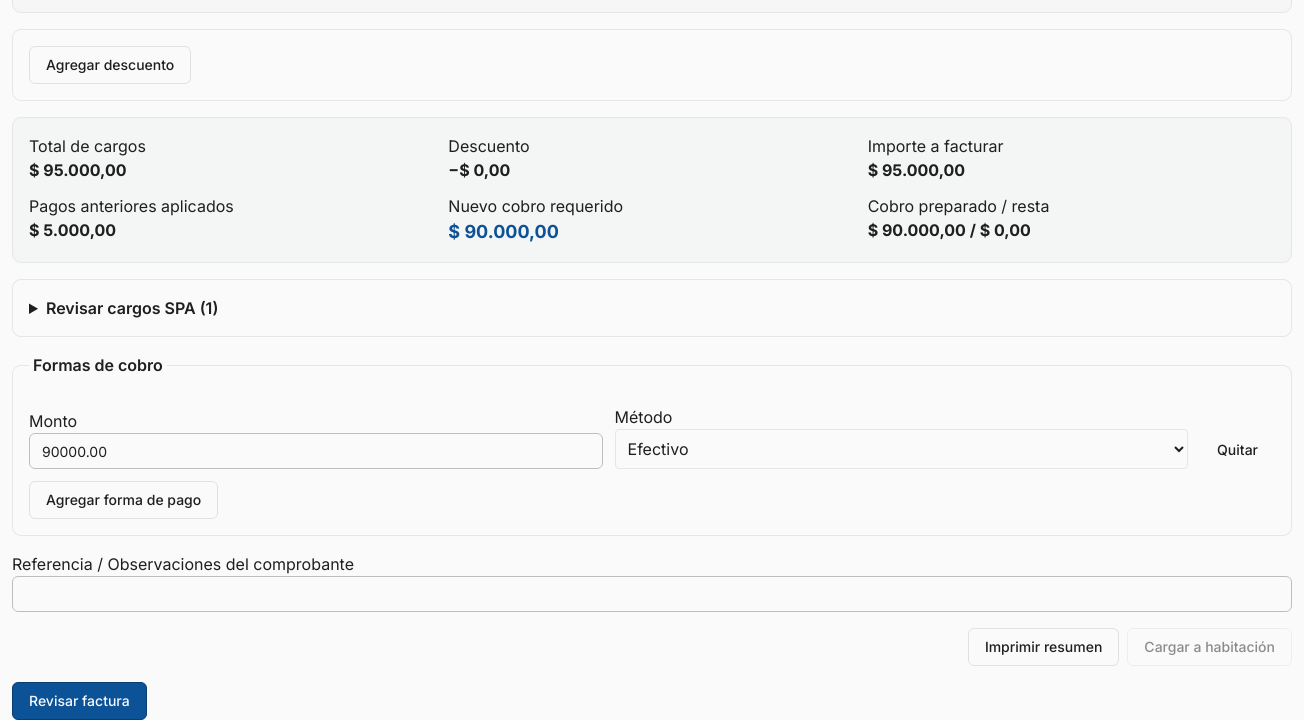
Test: reports a specific company fiscal error without inventing a document or collecting
(page scrolled)
Expected: the field named "Monto del cobro 1" is shown, [29,433,602,469]
Click the button "Revisar factura": {"x": 79, "y": 701} [12,682,147,719]
(page scrolled)
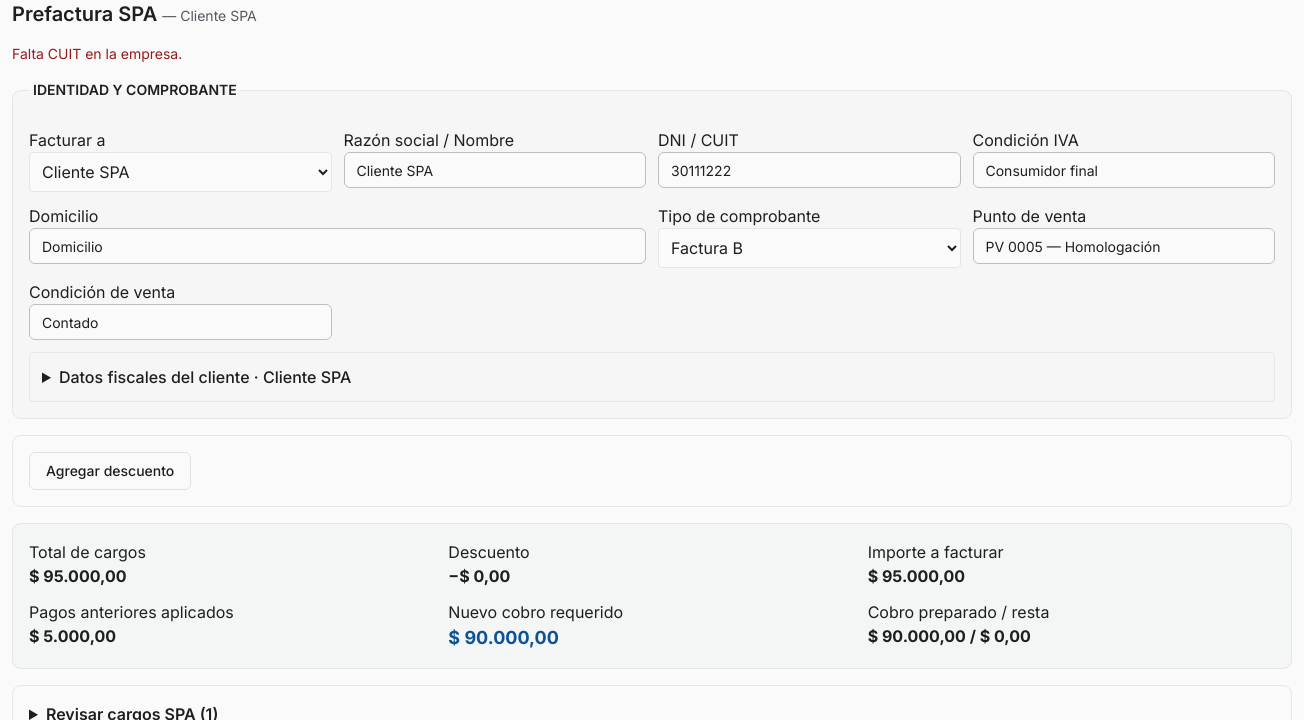
Expected: the text "Falta CUIT en la empresa." is shown, [12,45,182,62]
